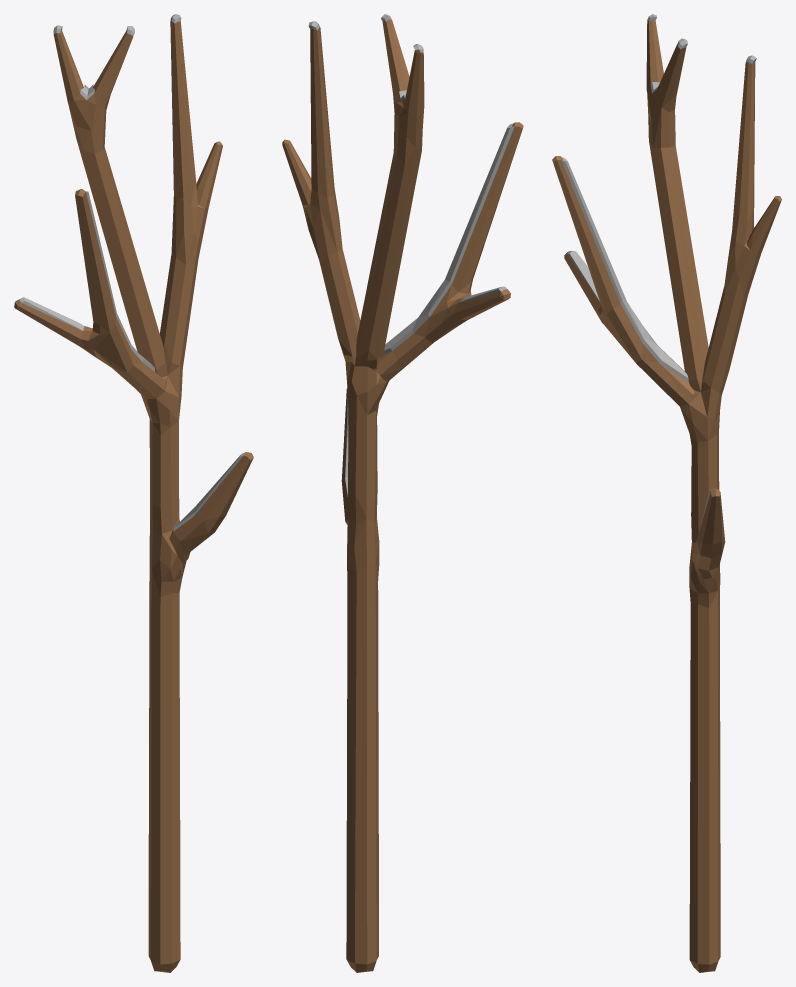
Rendered from Tree_10 Winter.fbx.
The picture shows the model from 3 angles, left to right: view 1: azimuth 30°, elevation 25°; view 2: azimuth 150°, elevation 25°; view 3: azimuth 330°, elevation 25°; orthographic projection. The views are drawn at different scales.
Visible parts, largest first — view 1: Tree10Winter_mesh; view 2: Tree10Winter_mesh; view 3: Tree10Winter_mesh.
Boxes of the visible parts, x1,y1,x2,y2 form: Tree10Winter_mesh: (14, 14, 253, 972); Tree10Winter_mesh: (282, 14, 523, 972); Tree10Winter_mesh: (552, 14, 781, 972).
Bounding box in the file's own units: 109 × 459 × 59.8.
